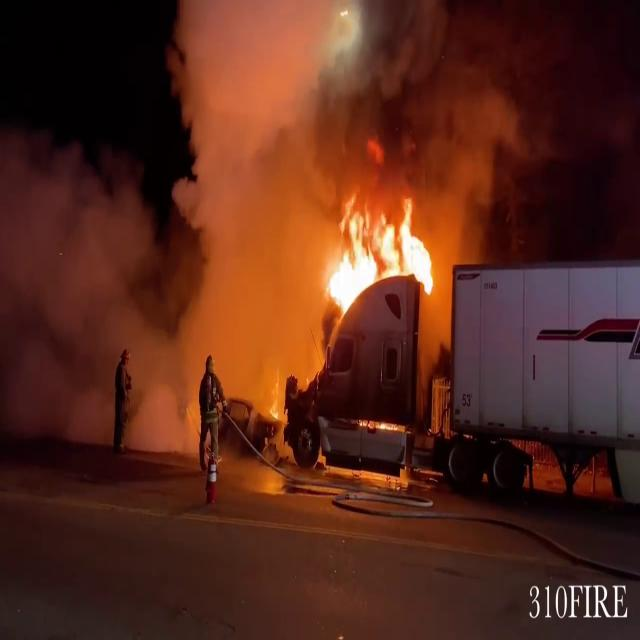Fire: (315, 194, 441, 318)
Smoke: (173, 0, 526, 454), (0, 130, 182, 458)
